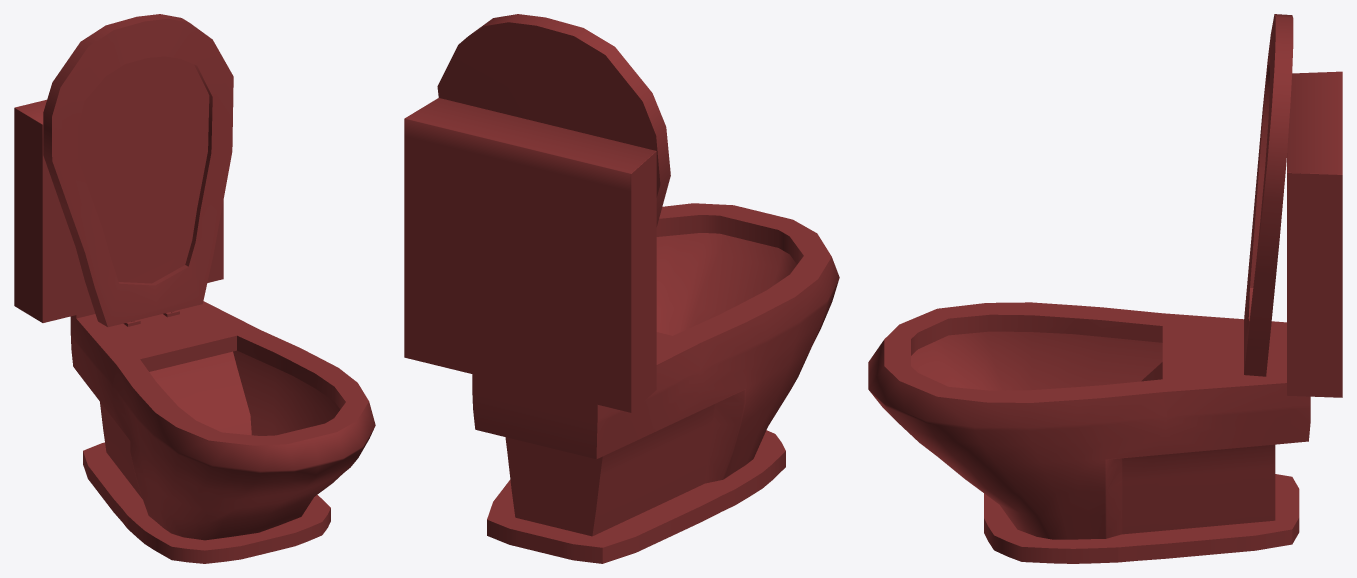
The model's file is toilet_v1.FBX.
3 renders of one model, left to right at view 1: azimuth 30°, elevation 25°; view 2: azimuth 150°, elevation 25°; view 3: azimuth 270°, elevation 25°, orthographic. The views are drawn at different scales.
Visible parts, largest first — view 1: Toilet Sink; view 2: Toilet Sink; view 3: Toilet Sink.
Boxes of the visible parts, x1,y1,x2,y2 form: Toilet Sink: [14, 14, 375, 563]; Toilet Sink: [404, 14, 839, 563]; Toilet Sink: [868, 14, 1342, 563].
Size of the model in its own units: 76.1 by 168 by 148.
